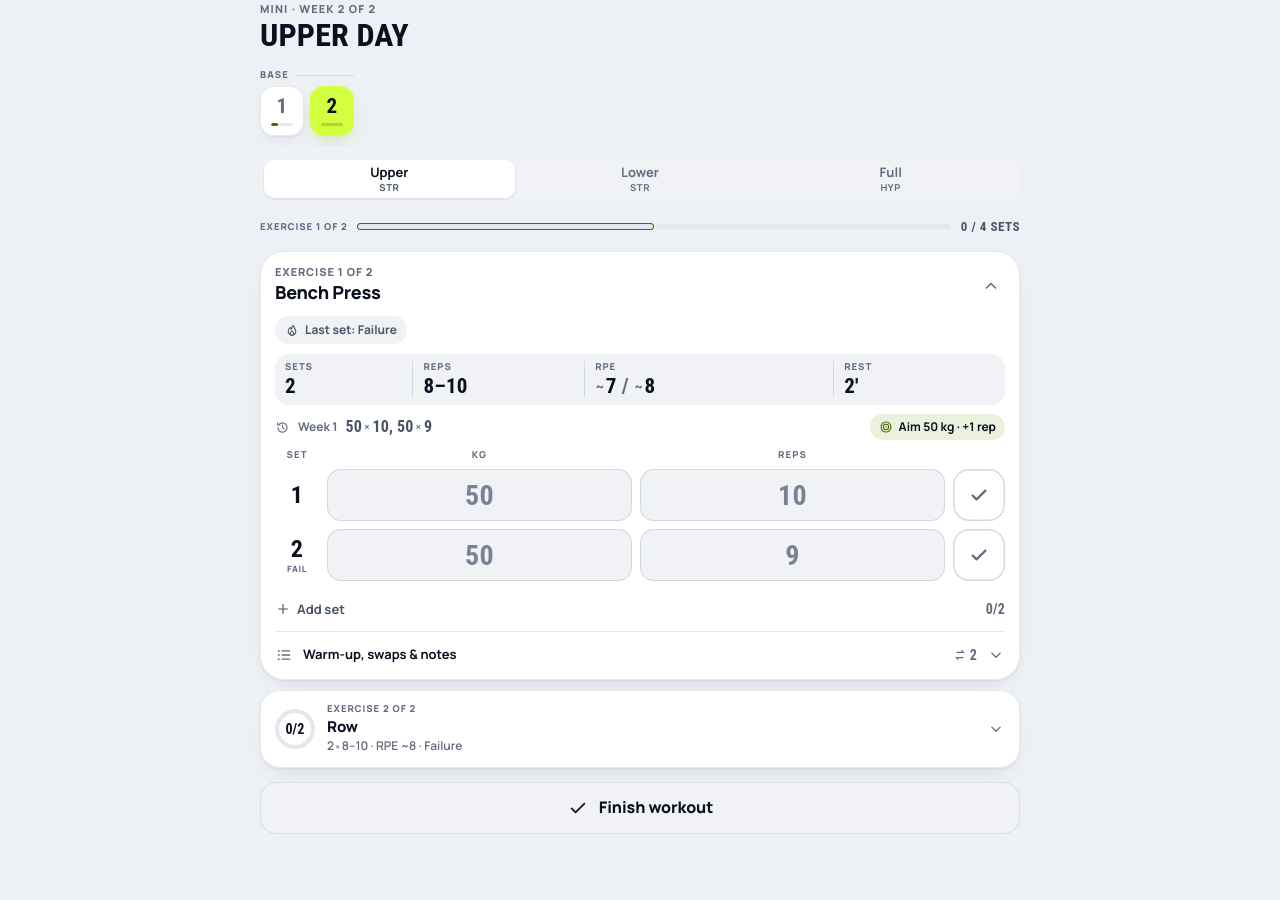
Scenario: TrainPage › finishes the workout from the sheet and shows the completion card
The image size is (1280, 900).
Step 1. Click the button named "Mark set 1 done" → [979, 495], box [953,469,1005,521]
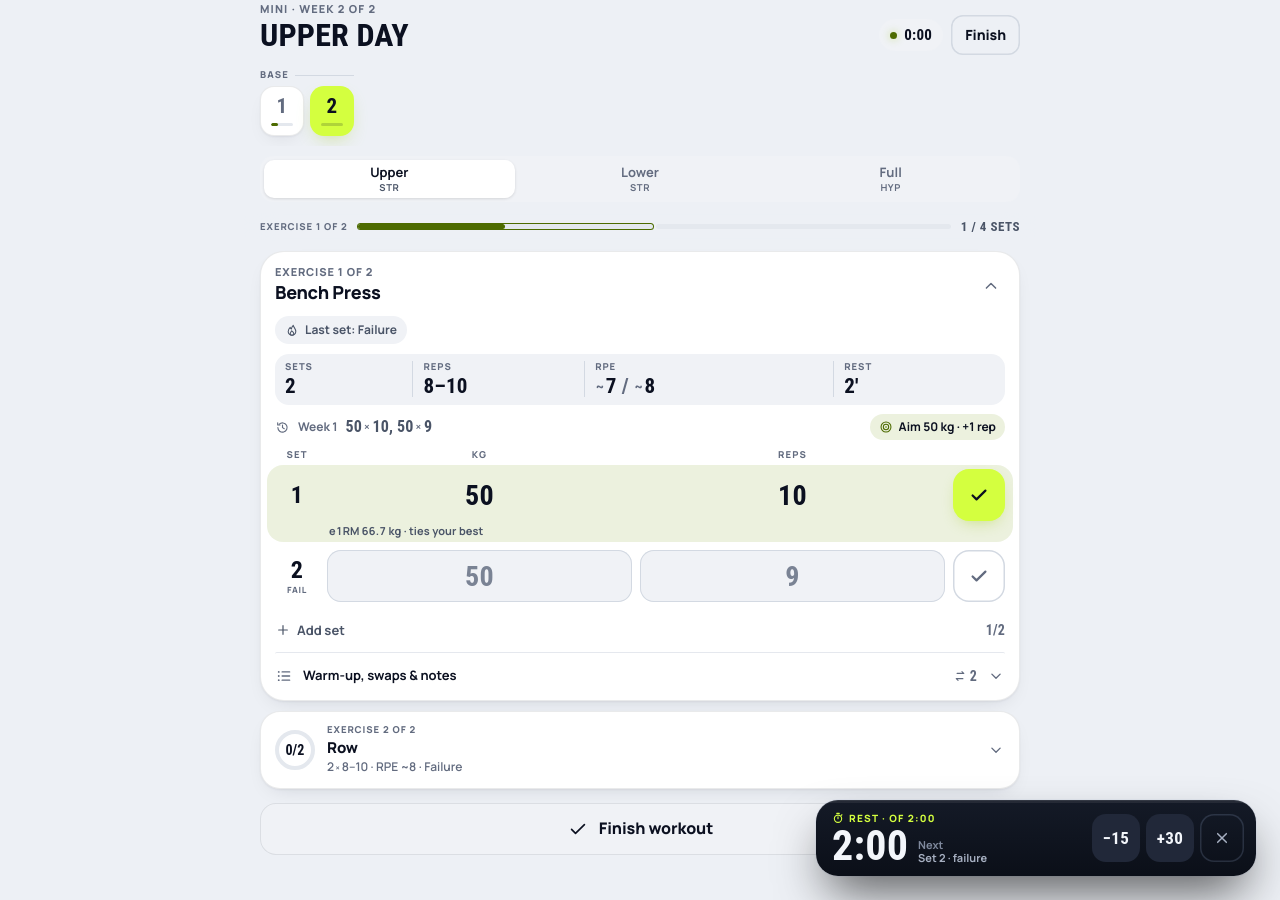
Step 2. Click the button "Finish" → [986, 35], box [951,15,1020,55]
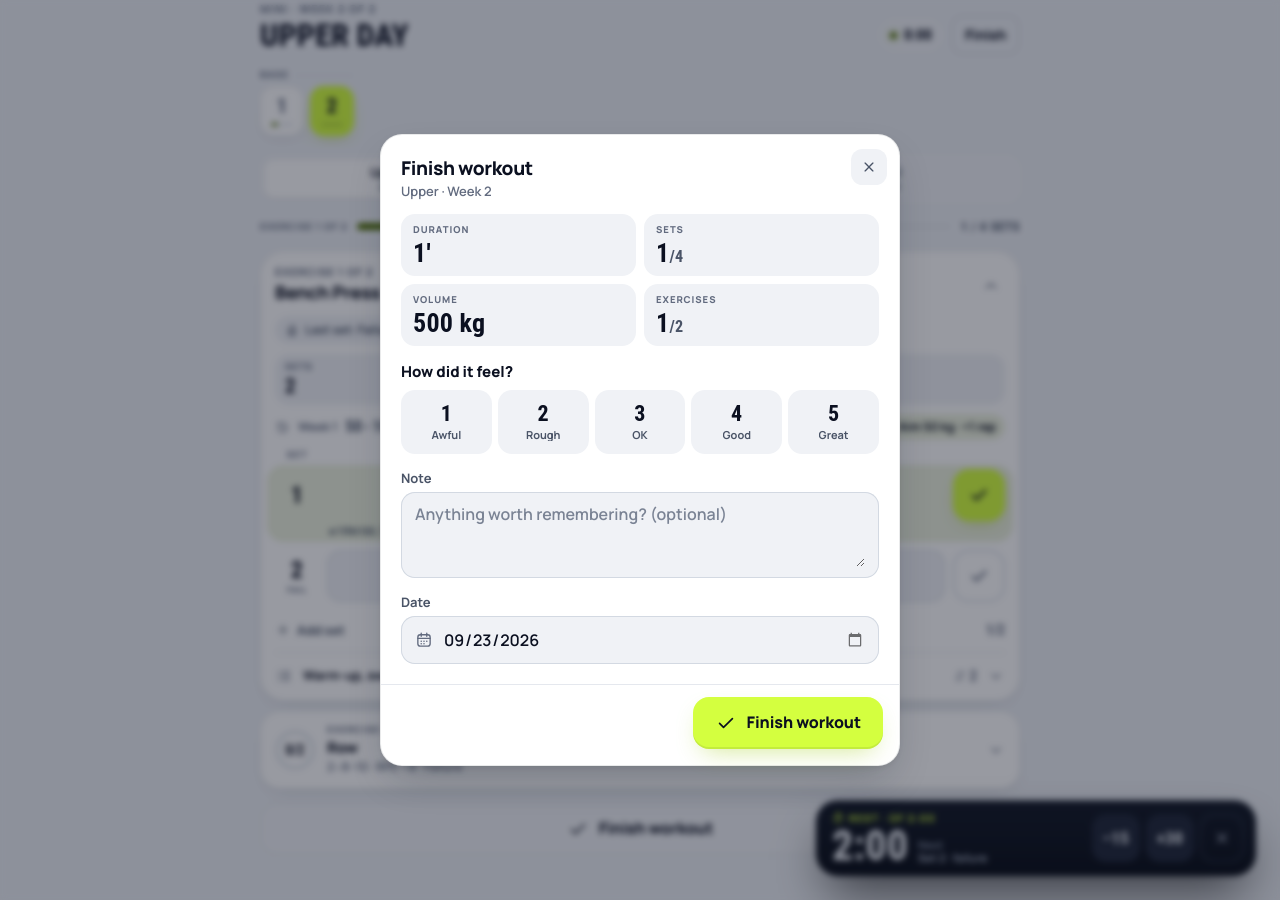
Step 3. Click the radio button labelled "5 Great" → [834, 422], box [788,390,879,454]
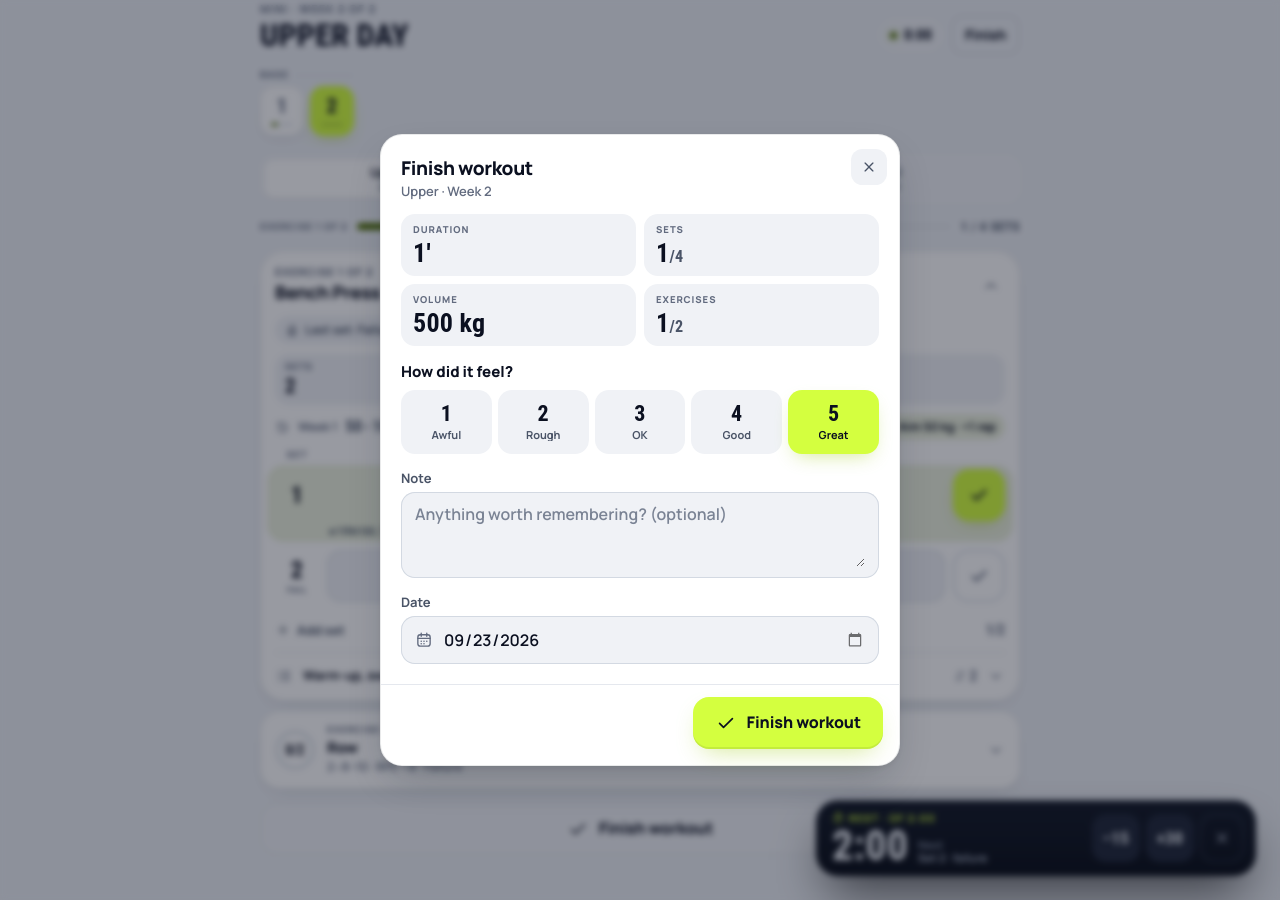
Step 4. Click the button "Finish workout" → [788, 723], box [692,697,883,749]
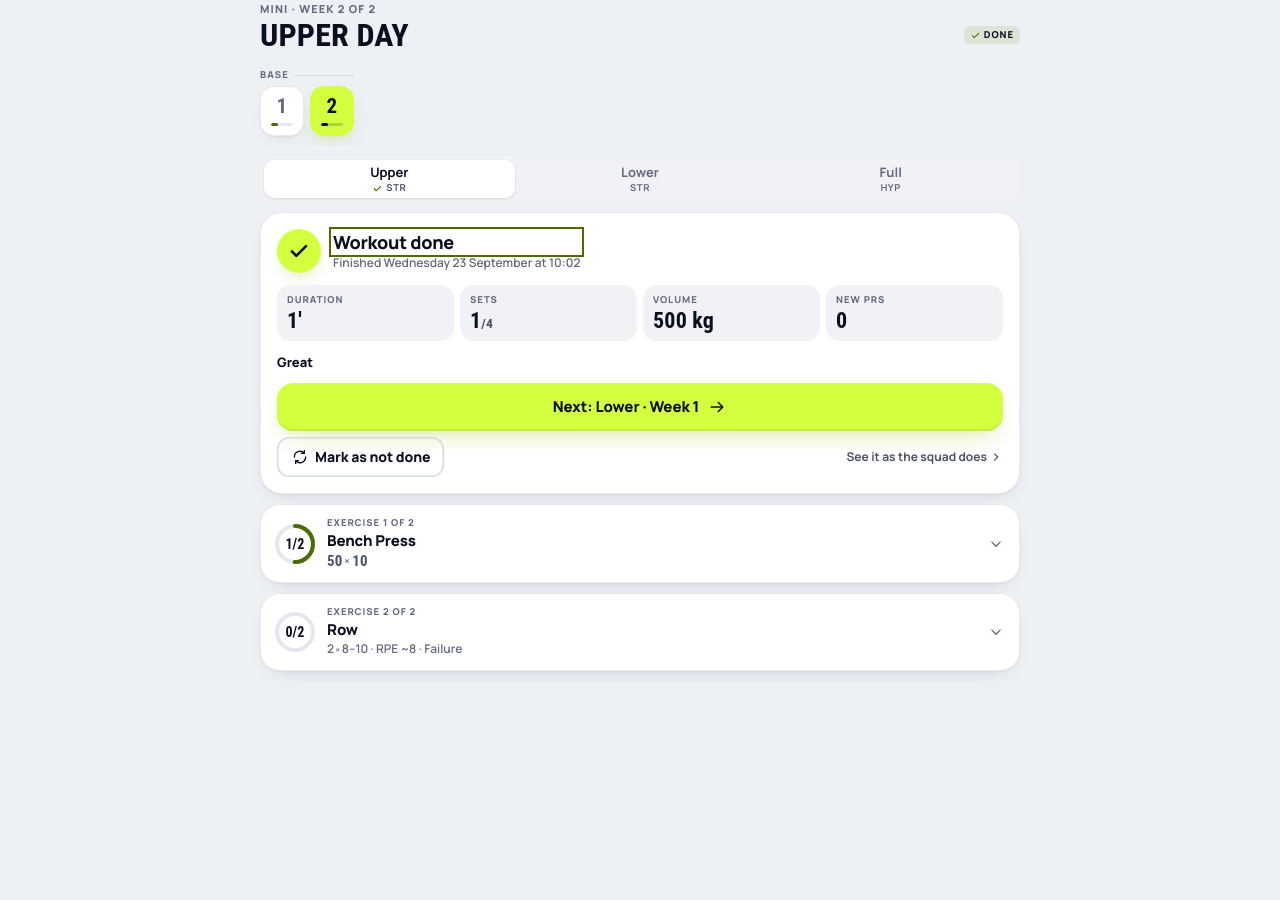
expect the heading "Workout done" is shown: met, box [333,230,454,254]
expect the link "Next: Lower · Week 1" is shown: met, box [277,383,1003,431]
